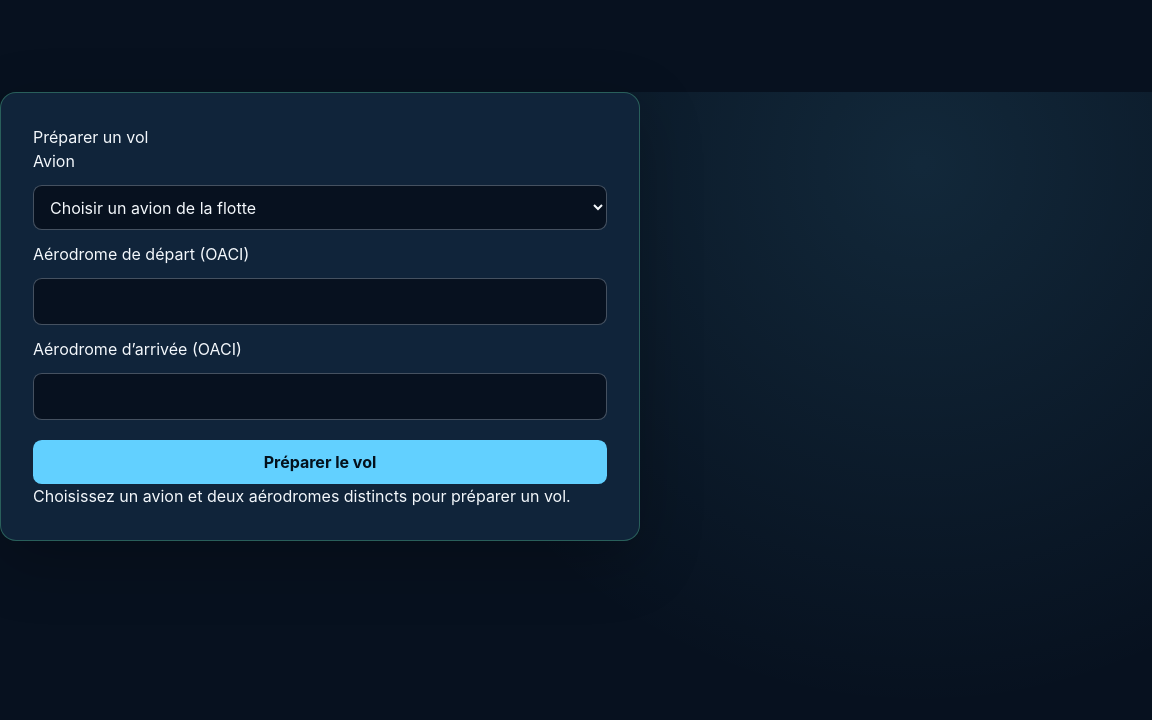
Test: FlightDispatchPanel › refuse une intention invalide sans obtenir de bearer ni appeler la commande
Select "Synthetic Cessna · C172 · SYN-001" in the dropdown labelled "Avion" at (320, 208), box [33,185,607,230]
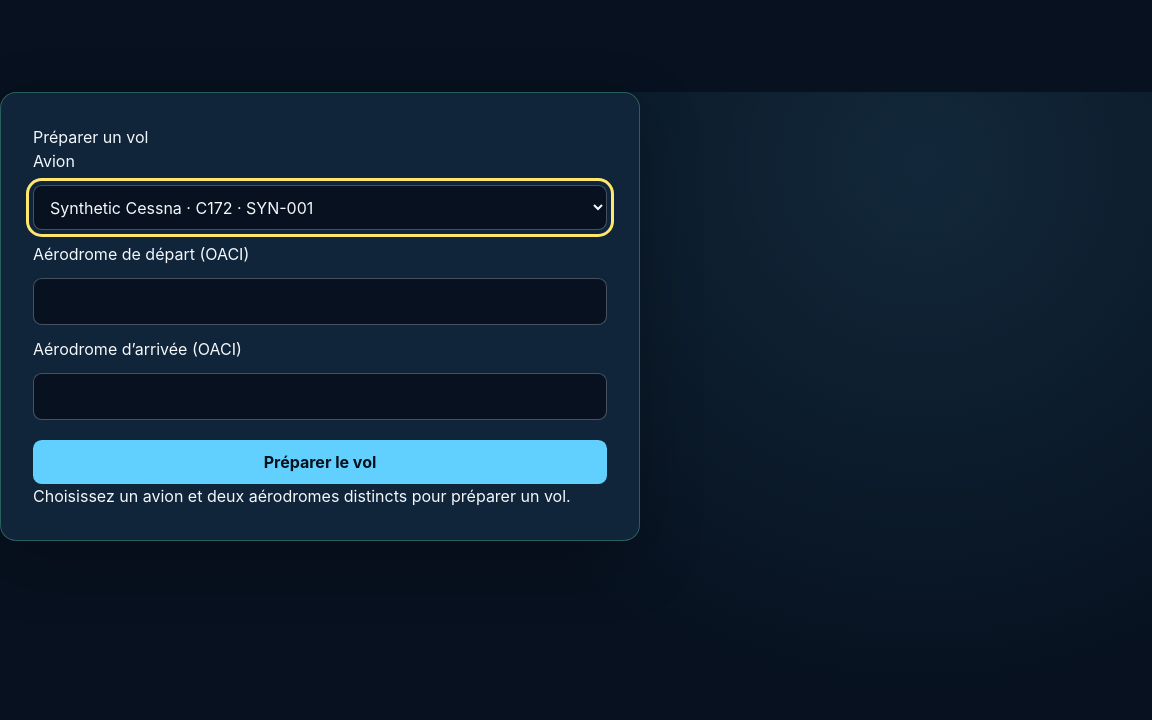
Type "lfpg" into the field labelled "Aérodrome de départ (OACI)".
click(320, 301); type("lfpg")  # box [33,278,607,325]
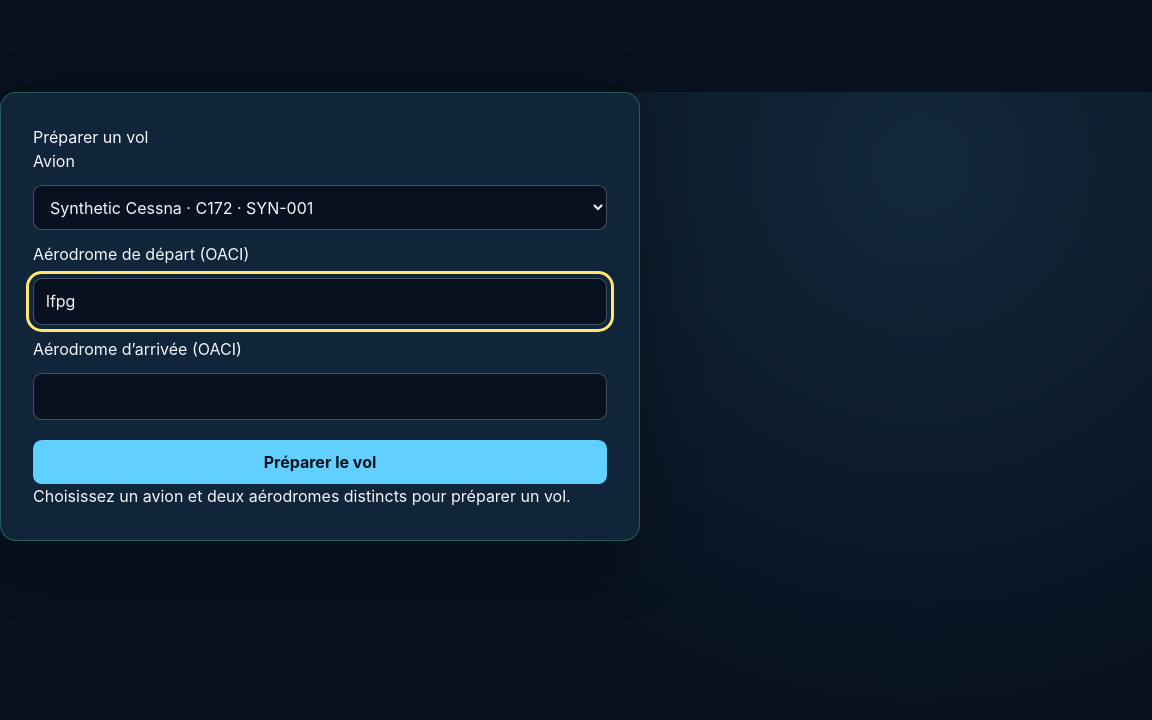
Type "lfpg" into the field labelled "Aérodrome d’arrivée (OACI)".
click(320, 396); type("lfpg")  # box [33,373,607,420]
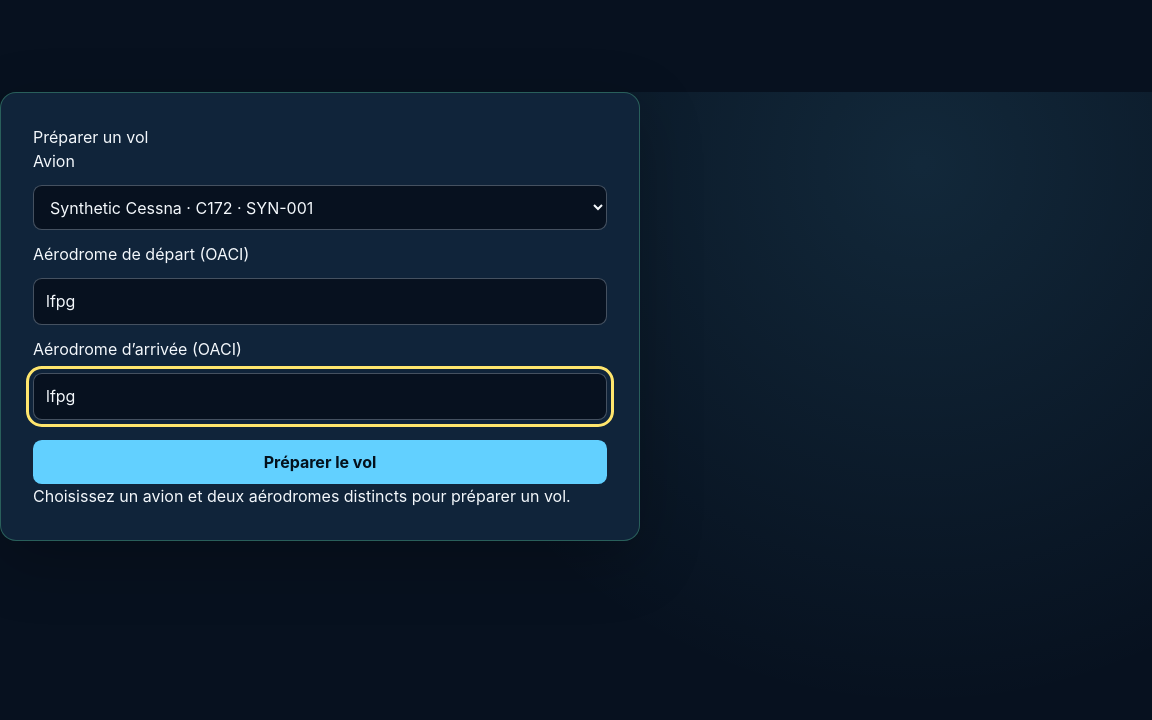
Click the button "Préparer le vol".
click(320, 462)  # box [33,440,607,484]
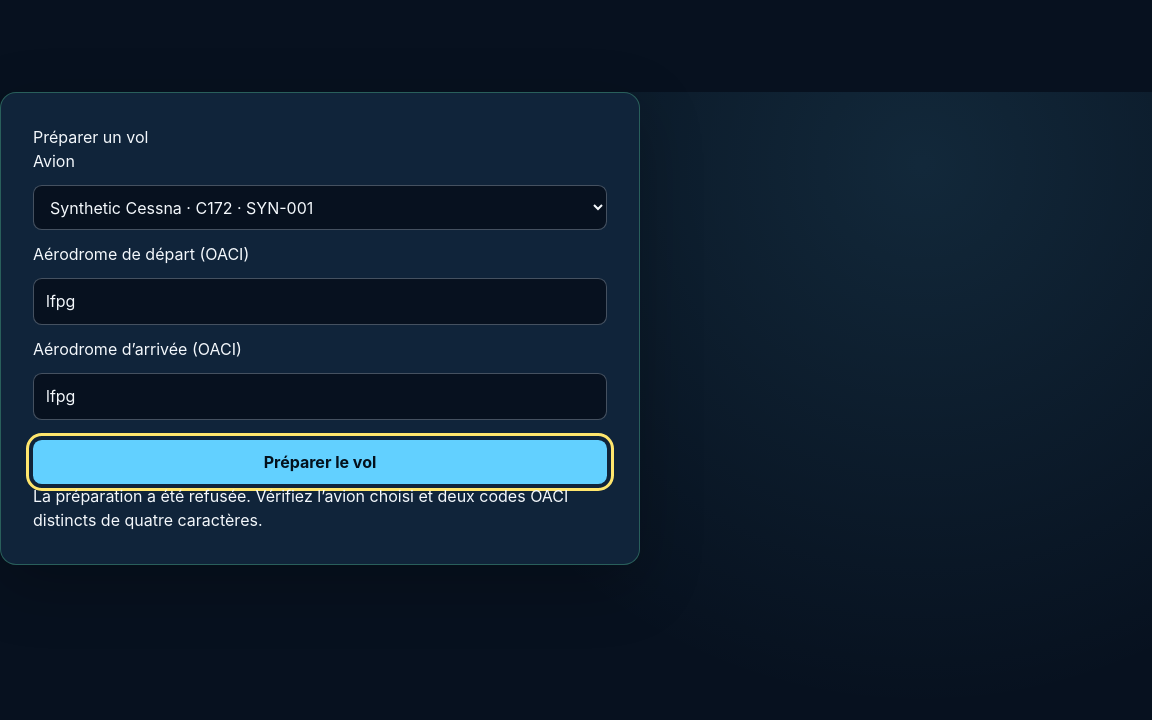
Now the message shows "La préparation a été refusée.", box [33,486,568,530]
